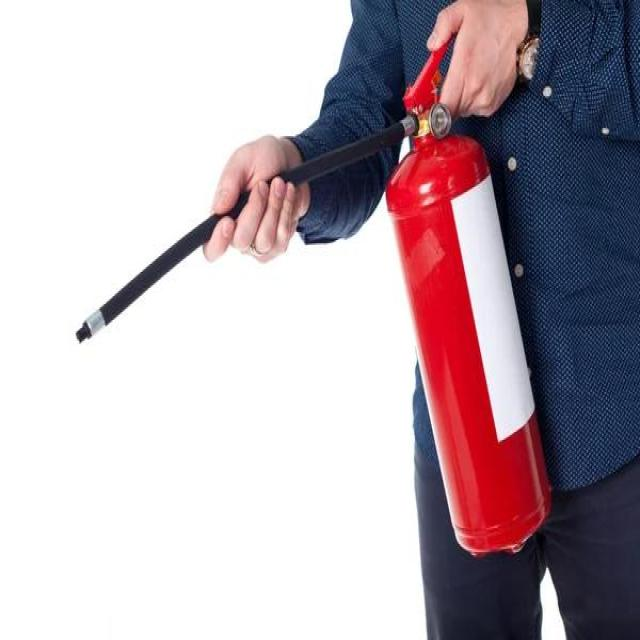fire_extinguisher: (68, 6, 560, 564)
